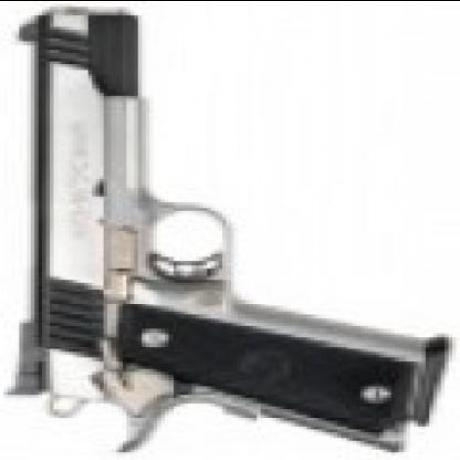weapon: (10, 6, 449, 457)
